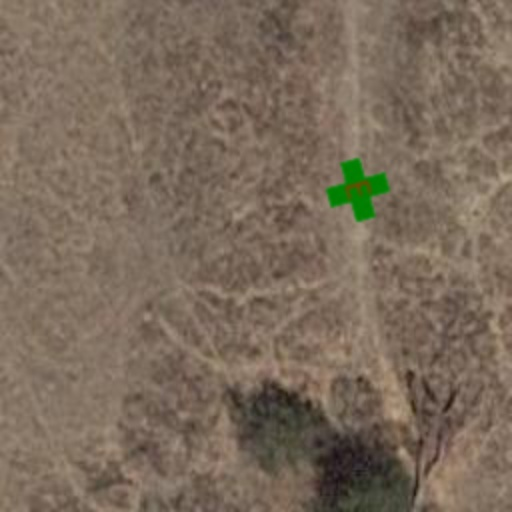cross: (318, 150, 398, 230)
